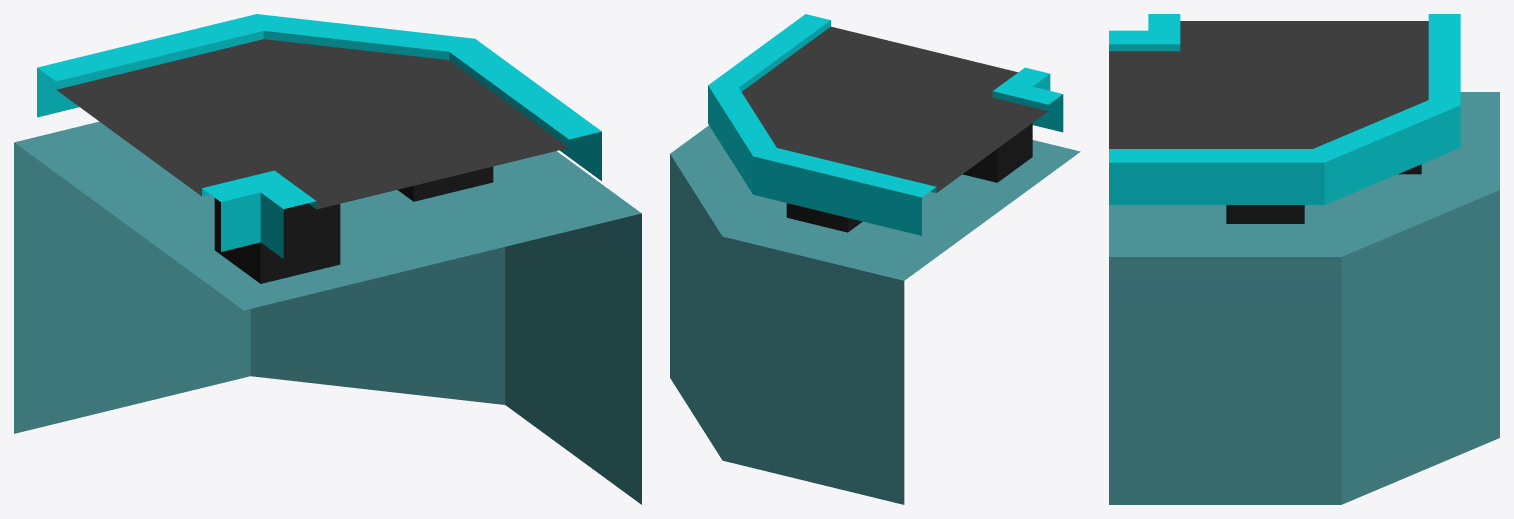
The model's file is conveyor_corner_2.fbx.
3 renders of one model, left to right at view 1: azimuth 30°, elevation 25°; view 2: azimuth 150°, elevation 25°; view 3: azimuth 270°, elevation 25°, orthographic. The views are drawn at different scales.
Visible parts, largest first — view 1: conveyor_corner_1.001; view 2: conveyor_corner_1.001; view 3: conveyor_corner_1.001.
Boxes of the visible parts, x1=… form: conveyor_corner_1.001: x1=14, y1=14, x2=641, y2=504; conveyor_corner_1.001: x1=670, y1=14, x2=1080, y2=504; conveyor_corner_1.001: x1=1109, y1=14, x2=1499, y2=504.
Bounding box in the file's own units: 1 × 0.92 × 1.
